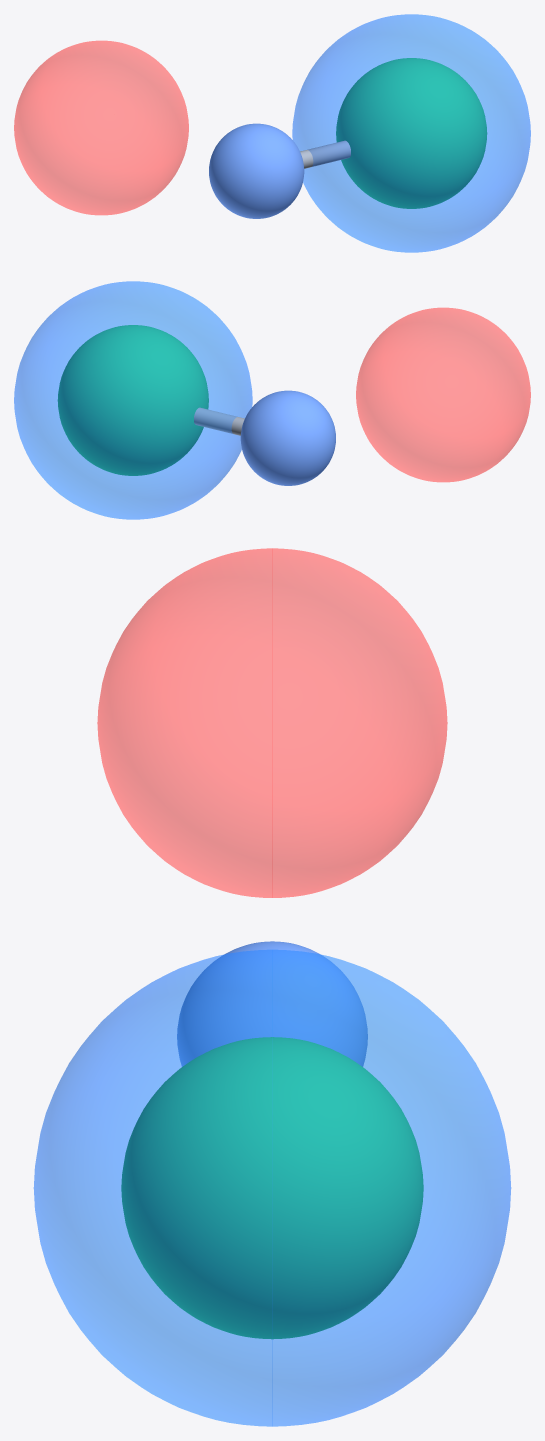
The model's file is hcl.glb.
3 views of the same model, one above another, from view 1: azimuth 30°, elevation 25°; view 2: azimuth 150°, elevation 25°; view 3: azimuth 270°, elevation 25° (orthographic). The views are drawn at different scales.
Visible parts, largest first — view 1: halo (×2), Cl, H, b2; view 2: halo (×2), Cl, H, b2; view 3: halo (×2), Cl, H.
Boxes of the visible parts, x1=… form: halo (×2): x1=14, y1=14, x2=530, y2=252; Cl: x1=336, y1=58, x2=487, y2=208; H: x1=209, y1=123, x2=304, y2=218; b2: x1=300, y1=140, x2=350, y2=168; halo (×2): x1=14, y1=281, x2=530, y2=519; Cl: x1=57, y1=325, x2=208, y2=475; H: x1=240, y1=390, x2=335, y2=485; b2: x1=194, y1=407, x2=244, y2=435; halo (×2): x1=33, y1=548, x2=511, y2=1426; Cl: x1=121, y1=1037, x2=423, y2=1339; H: x1=177, y1=941, x2=367, y2=1066.
Size of the model in its own units: 0.284 by 0.149 by 0.12.
